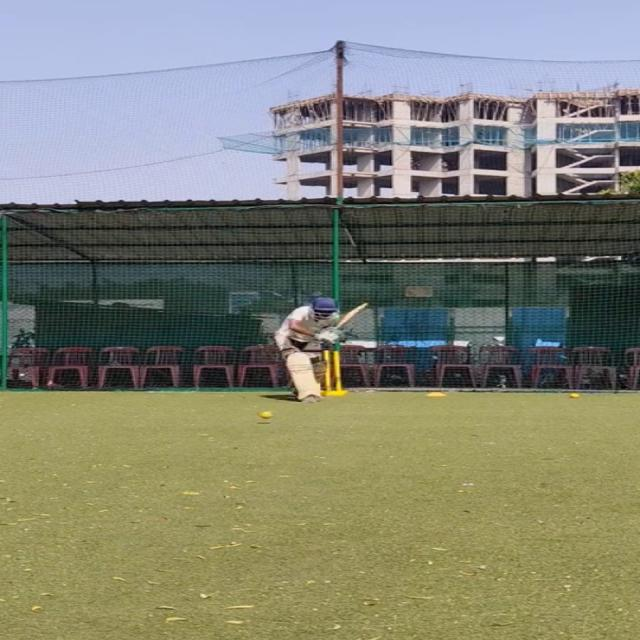ball: (258, 410, 278, 419), (569, 392, 584, 399)
stump: (322, 349, 345, 394)
